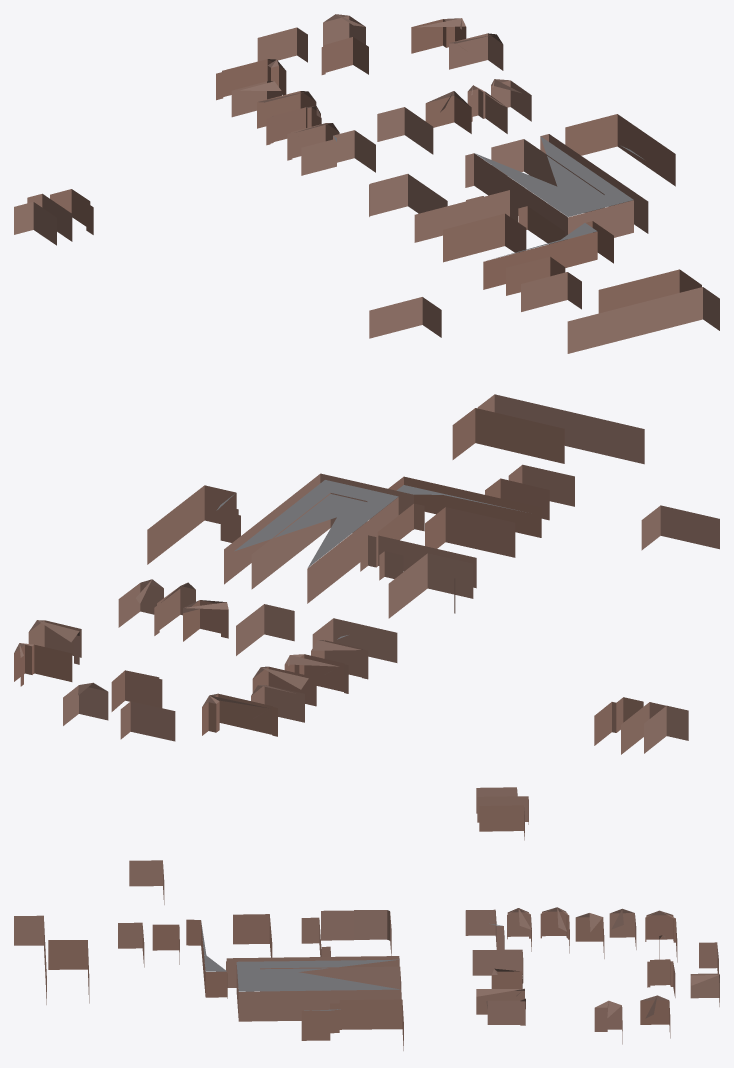
File: c_1634_17823_buildings_residential.glb
The picture shows the model from 3 angles, top to bottom: view 1: azimuth 30°, elevation 25°; view 2: azimuth 150°, elevation 25°; view 3: azimuth 270°, elevation 25°; orthographic projection. The views are drawn at different scales.
Visible parts, largest first — view 1: geometry_0; view 2: geometry_0; view 3: geometry_0.
Boxes of the visible parts, bbox=[...] form: geometry_0: bbox=[14, 14, 719, 353]; geometry_0: bbox=[14, 394, 719, 754]; geometry_0: bbox=[14, 787, 719, 1050].
Bounding box in the file's own units: 192 × 12.13 × 237.
